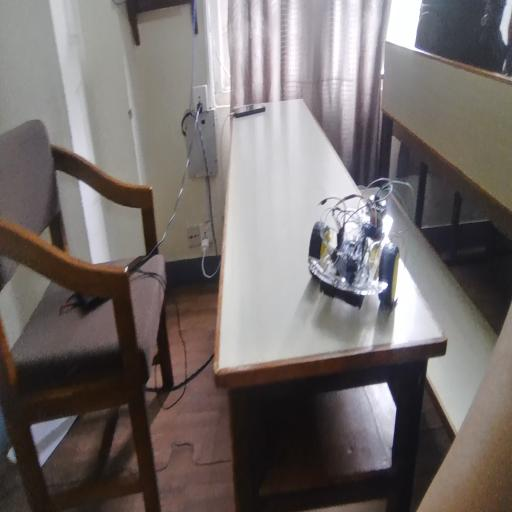car: (298, 157, 417, 300)
